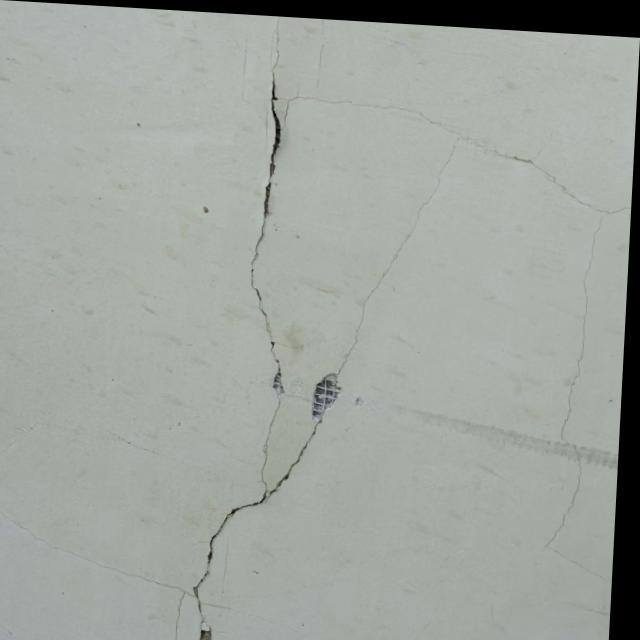crack: (311, 93, 630, 587), (0, 404, 328, 640), (241, 19, 310, 363)
spalling: (305, 368, 344, 428), (269, 365, 293, 402), (193, 625, 220, 640)
